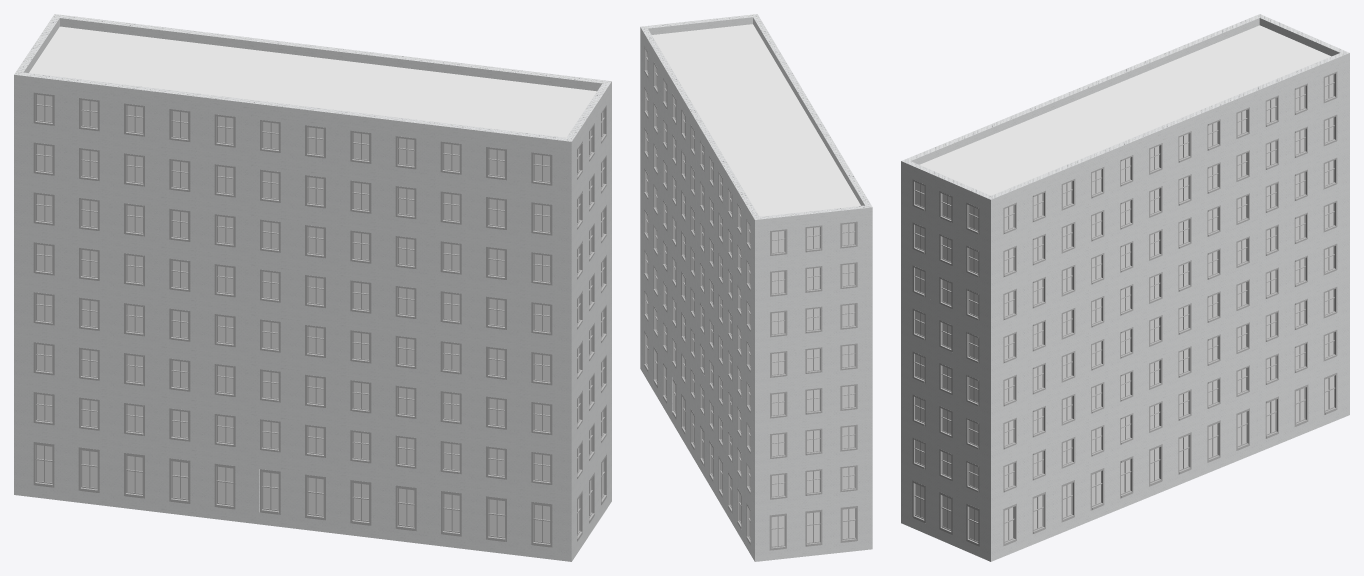
File: clohbz1tr03d54p02t5altrnj_0.glb
3 renders of one model, left to right at view 1: azimuth 30°, elevation 25°; view 2: azimuth 150°, elevation 25°; view 3: azimuth 270°, elevation 25°, orthographic. The views are drawn at different scales.
Visible parts, largest first — view 1: mesh_Brick, mesh_Rim, mesh_Glass, mesh_CityEnginePBRShader; view 2: mesh_Brick, mesh_CityEnginePBRShader, mesh_Rim, mesh_Glass; view 3: mesh_Brick, mesh_Rim, mesh_Glass, mesh_CityEnginePBRShader.
Boxes of the visible parts, x1,y1,x2,y2 form: mesh_Brick: [14, 14, 611, 561]; mesh_Rim: [33, 92, 606, 547]; mesh_Glass: [37, 94, 603, 542]; mesh_CityEnginePBRShader: [29, 26, 596, 137]; mesh_Brick: [640, 14, 872, 561]; mesh_CityEnginePBRShader: [652, 24, 860, 216]; mesh_Rim: [644, 46, 857, 550]; mesh_Glass: [647, 52, 854, 546]; mesh_Brick: [901, 14, 1349, 561]; mesh_Rim: [912, 71, 1337, 546]; mesh_Glass: [916, 74, 1333, 541]; mesh_CityEnginePBRShader: [919, 25, 1331, 195].
Size of the model in its own units: 32.86 by 29.86 by 33.53.
4 materials, 1 textured.
